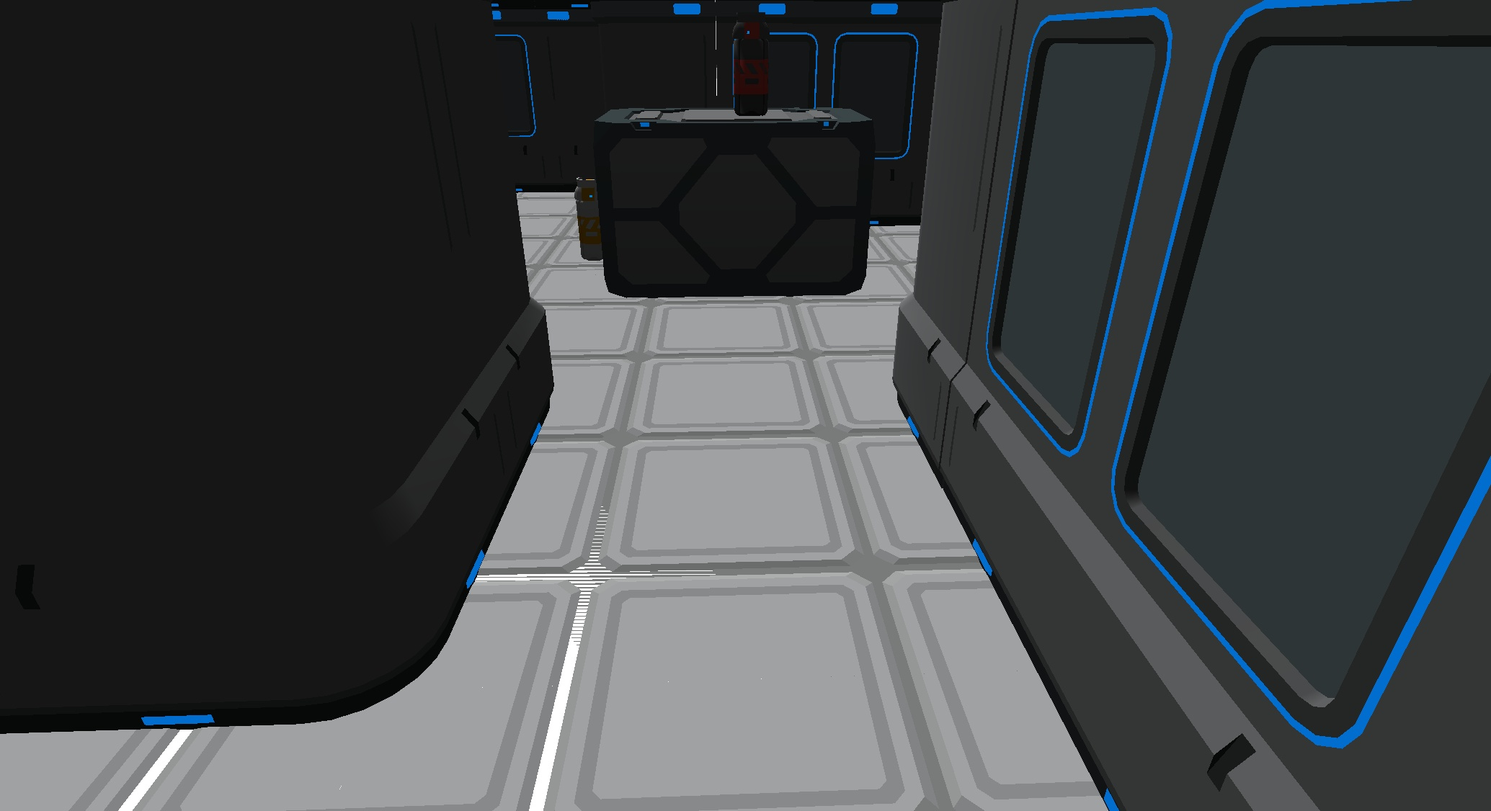red_barrel: (733, 14, 769, 115)
yellow_barrel: (575, 186, 602, 260)
